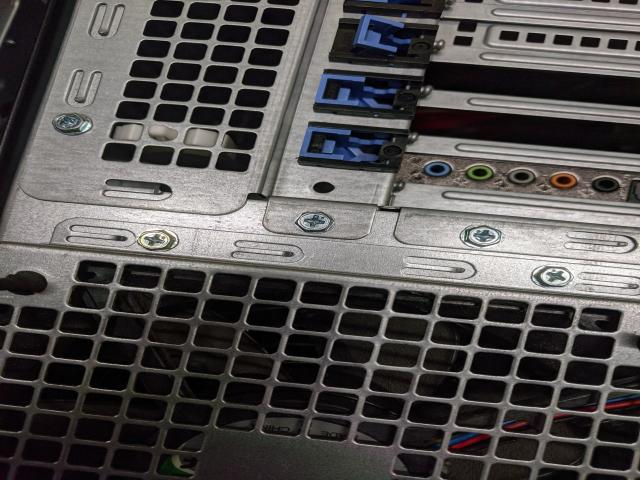CRS: (292, 209, 334, 234), (532, 263, 574, 288), (461, 222, 500, 247), (137, 228, 173, 251), (53, 114, 90, 134)
